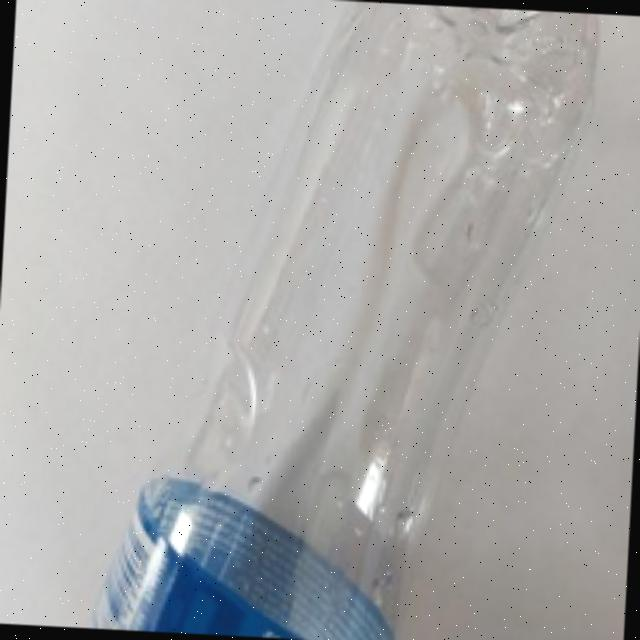bottle: (33, 0, 619, 640)
